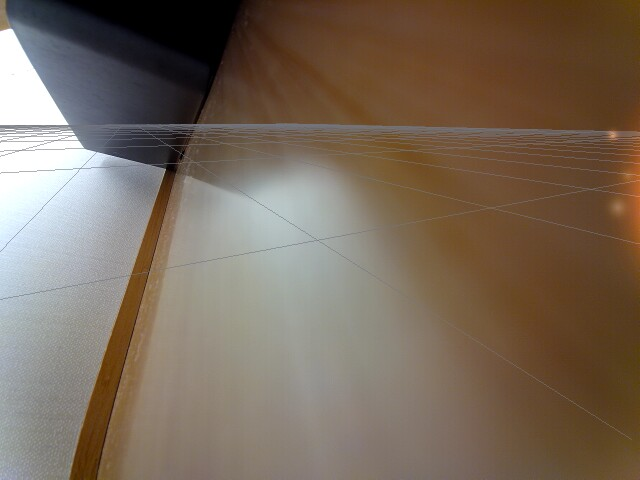fire: (603, 124, 639, 254)
